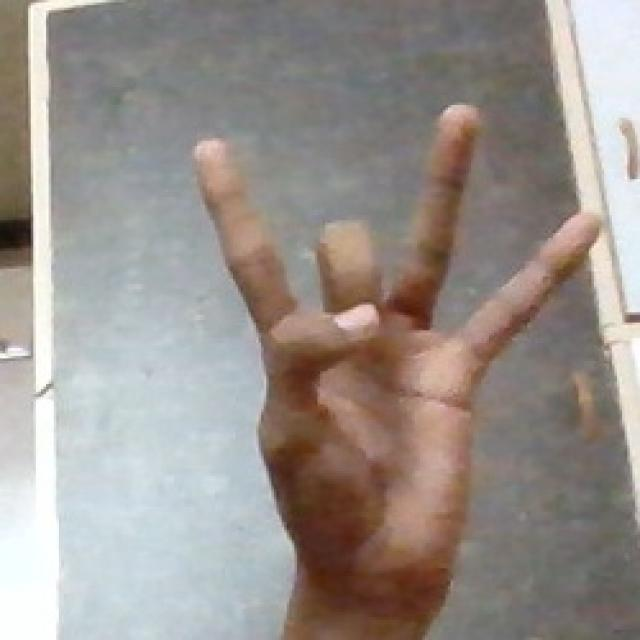Numeric-8: (193, 99, 601, 636)
